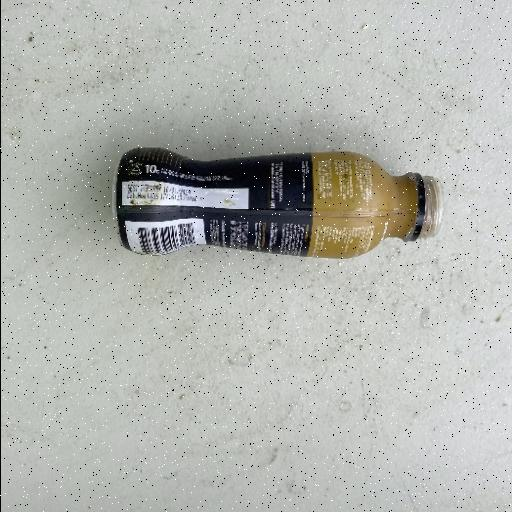Plastic: (112, 144, 444, 260)
